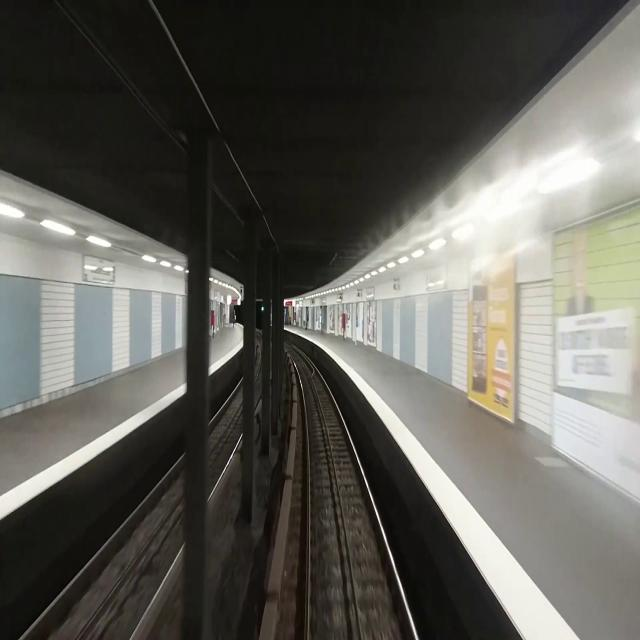rail-track: (286, 343, 414, 639), (26, 459, 184, 639), (209, 382, 242, 491), (255, 332, 261, 402)
